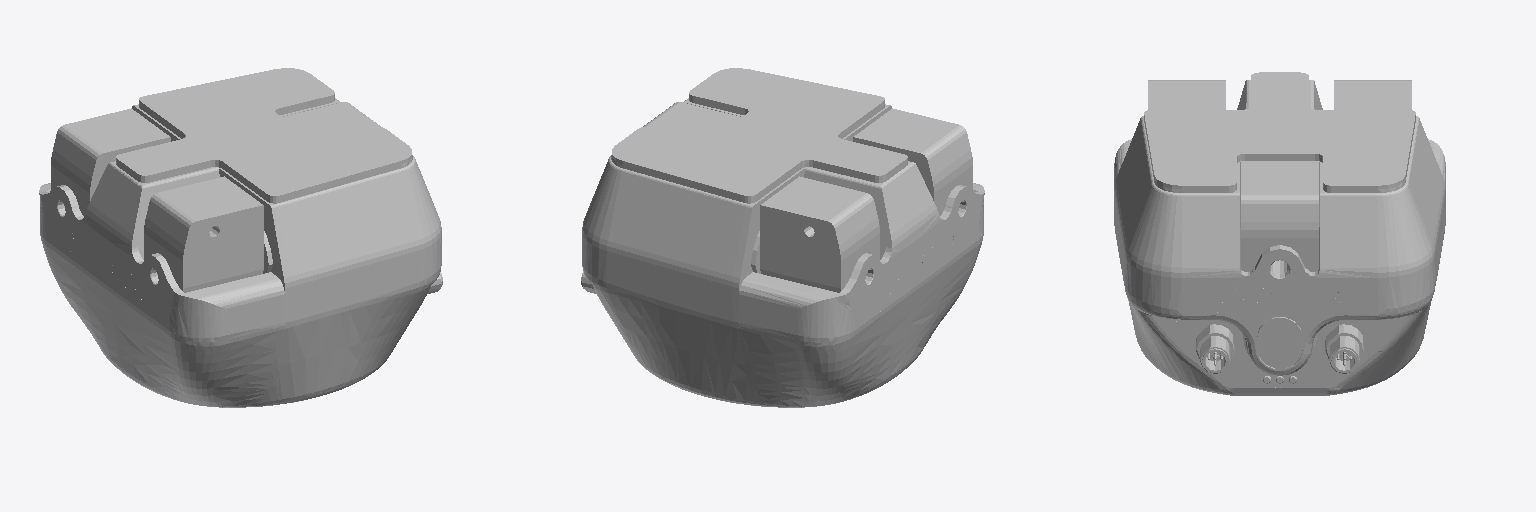
Rendered from armL hand.003.obj.
3 views of the same model, side by side, from view 1: azimuth 30°, elevation 25°; view 2: azimuth 150°, elevation 25°; view 3: azimuth 270°, elevation 25° (orthographic).
Parts seen in each view (by area): view 1: collision_0_armR_hand_armL_hand.003; view 2: collision_0_armR_hand_armL_hand.003; view 3: collision_0_armR_hand_armL_hand.003.
Boxes of the visible parts, box(x1,y1,x2,y2) form: collision_0_armR_hand_armL_hand.003: box(39, 68, 442, 407); collision_0_armR_hand_armL_hand.003: box(581, 68, 984, 407); collision_0_armR_hand_armL_hand.003: box(1114, 72, 1445, 395).
Bounding box in the file's own units: 0.1008 × 0.0786 × 0.0976.